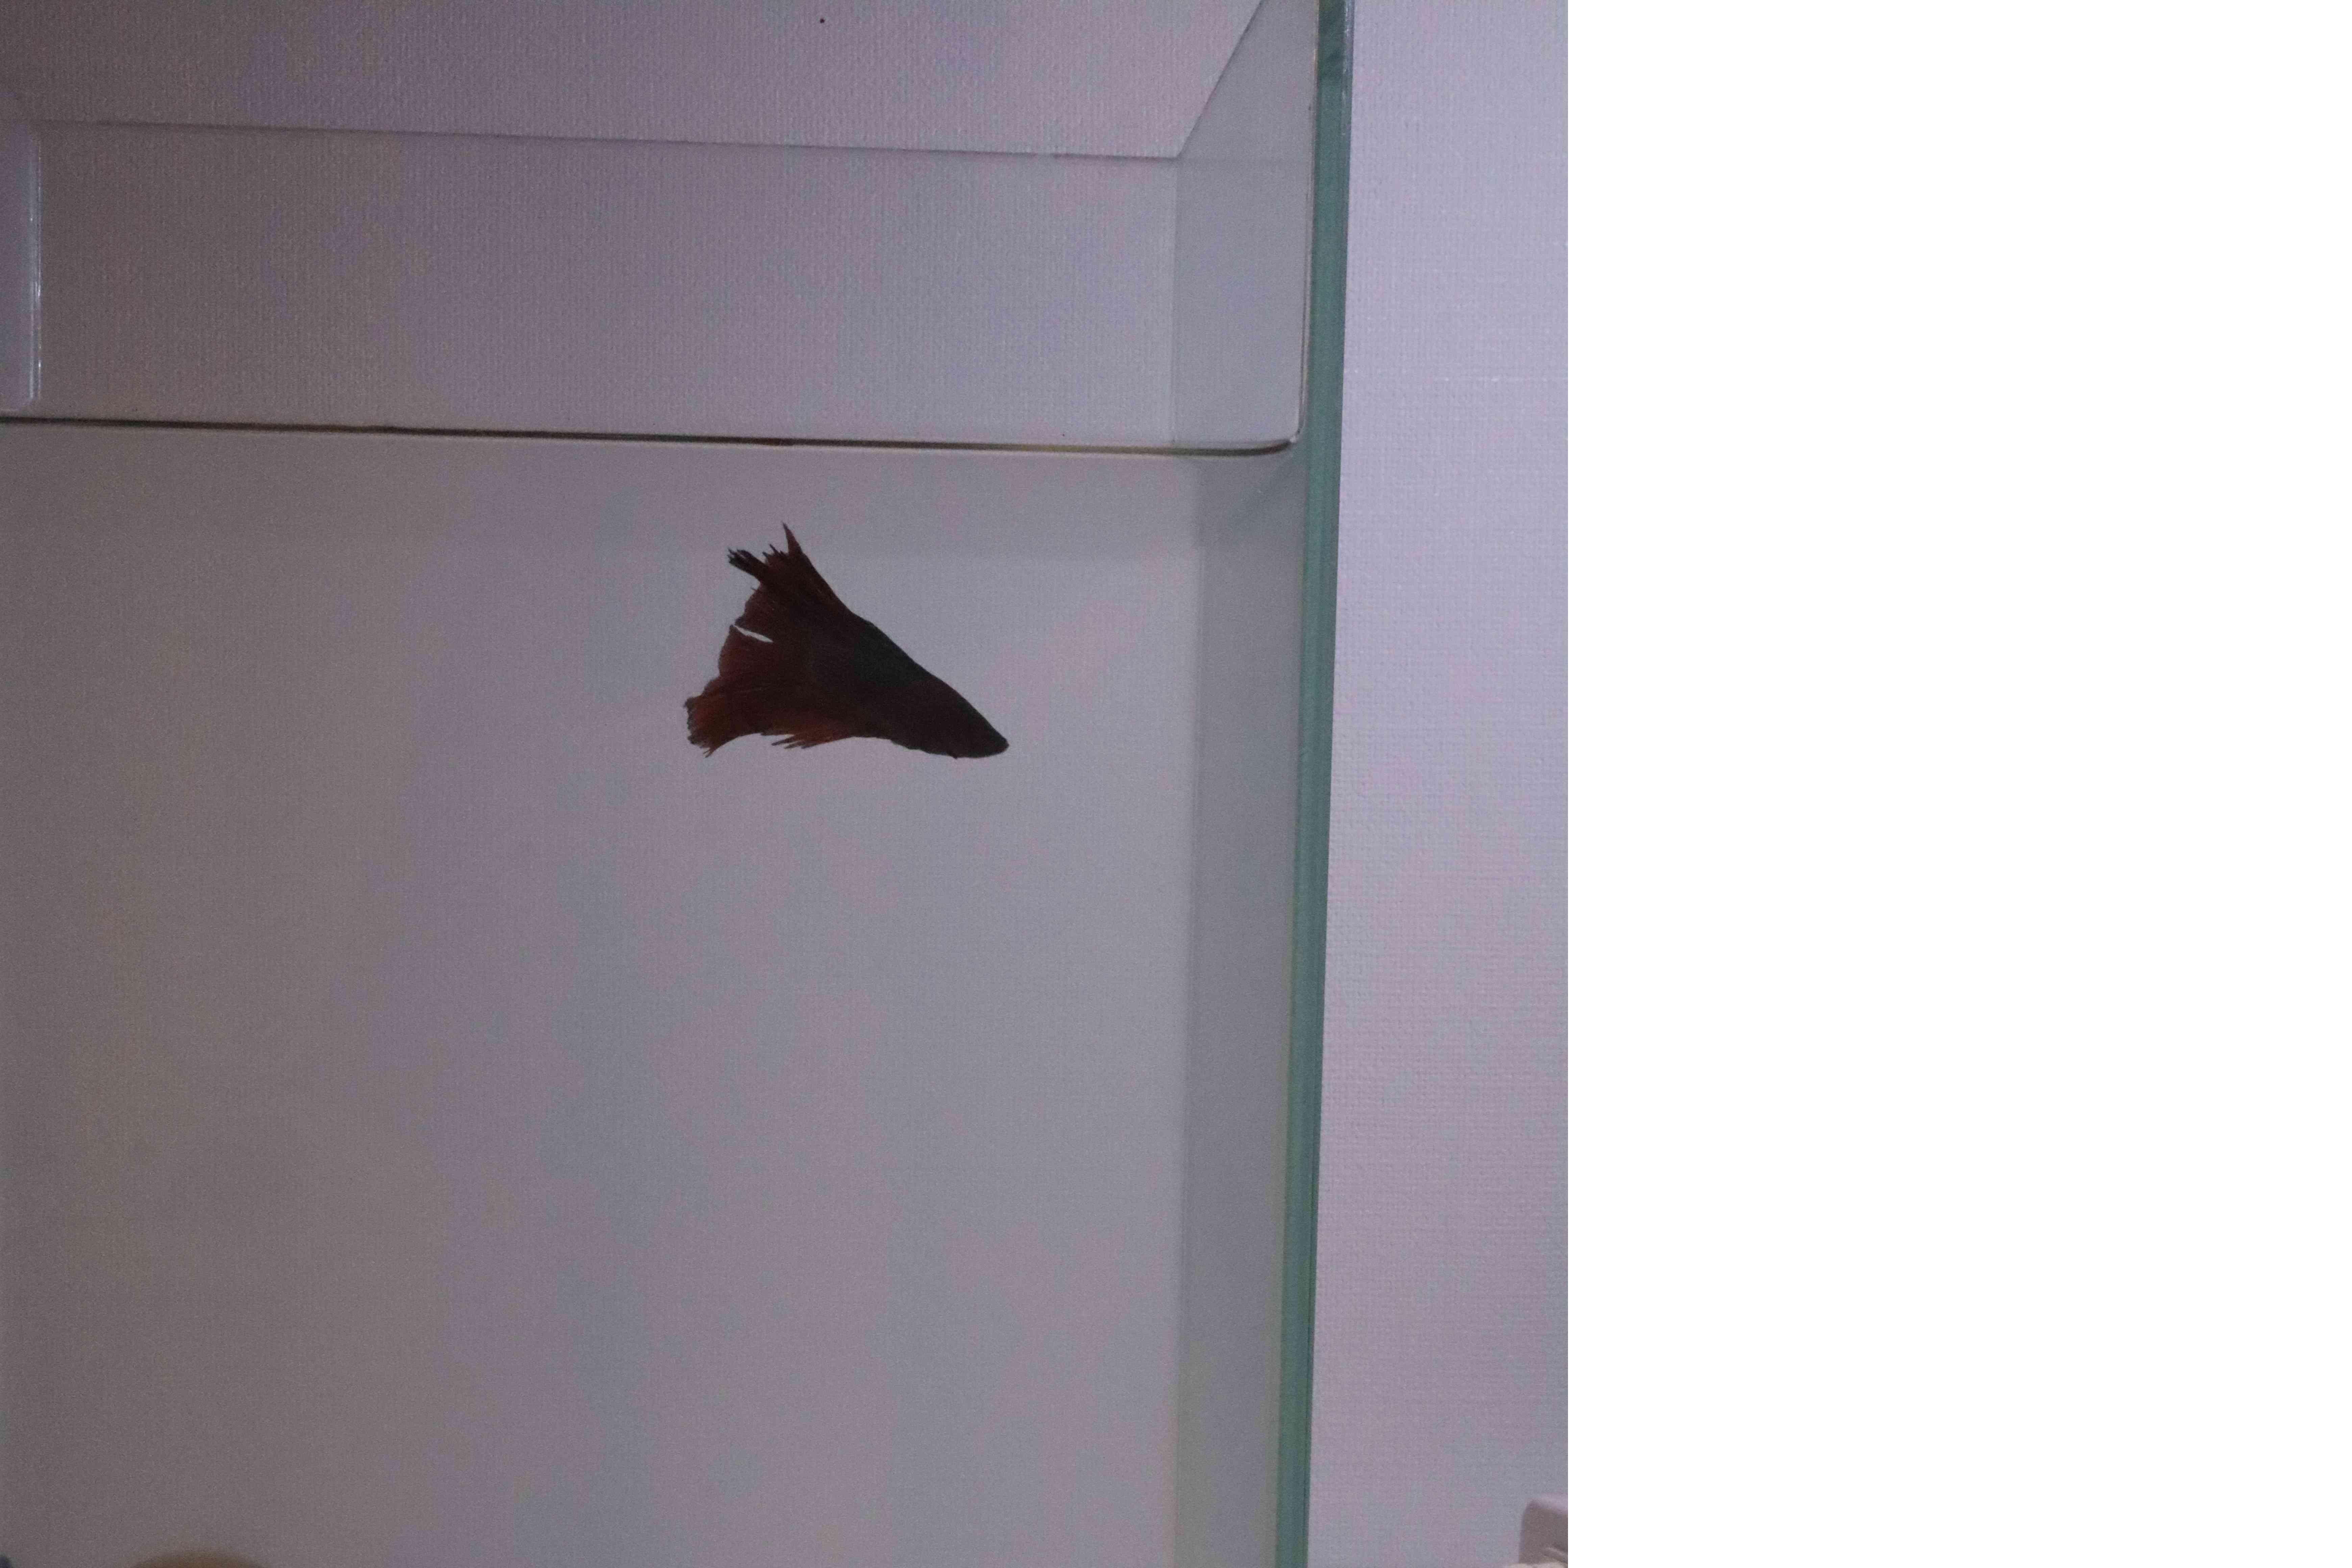fish: (656, 514, 1027, 772)
